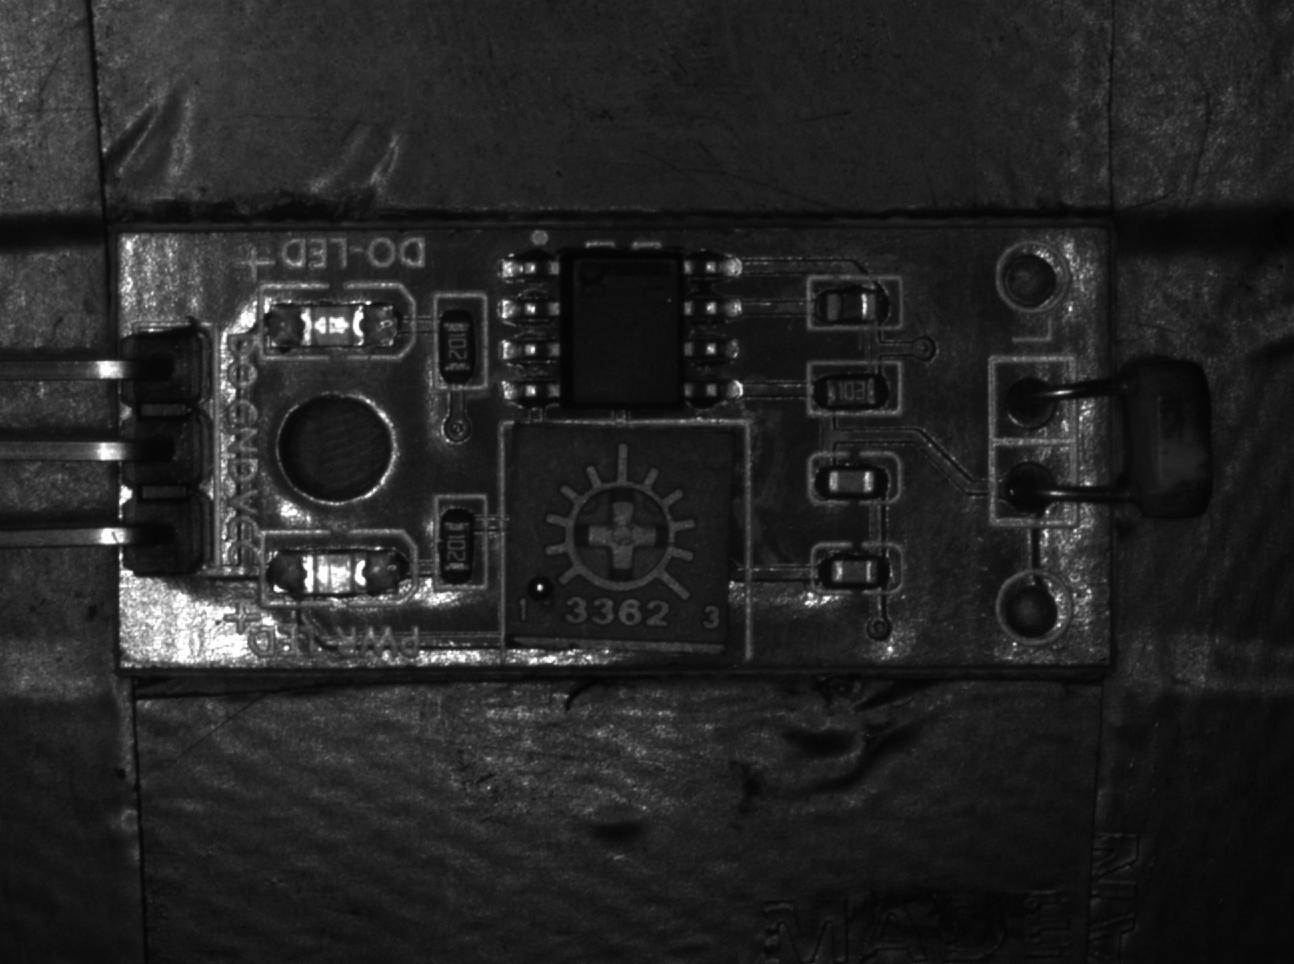miss: (808, 276, 901, 333)
ok: (808, 540, 905, 598), (804, 360, 905, 416), (434, 294, 486, 394), (804, 453, 901, 505), (435, 494, 488, 588)
